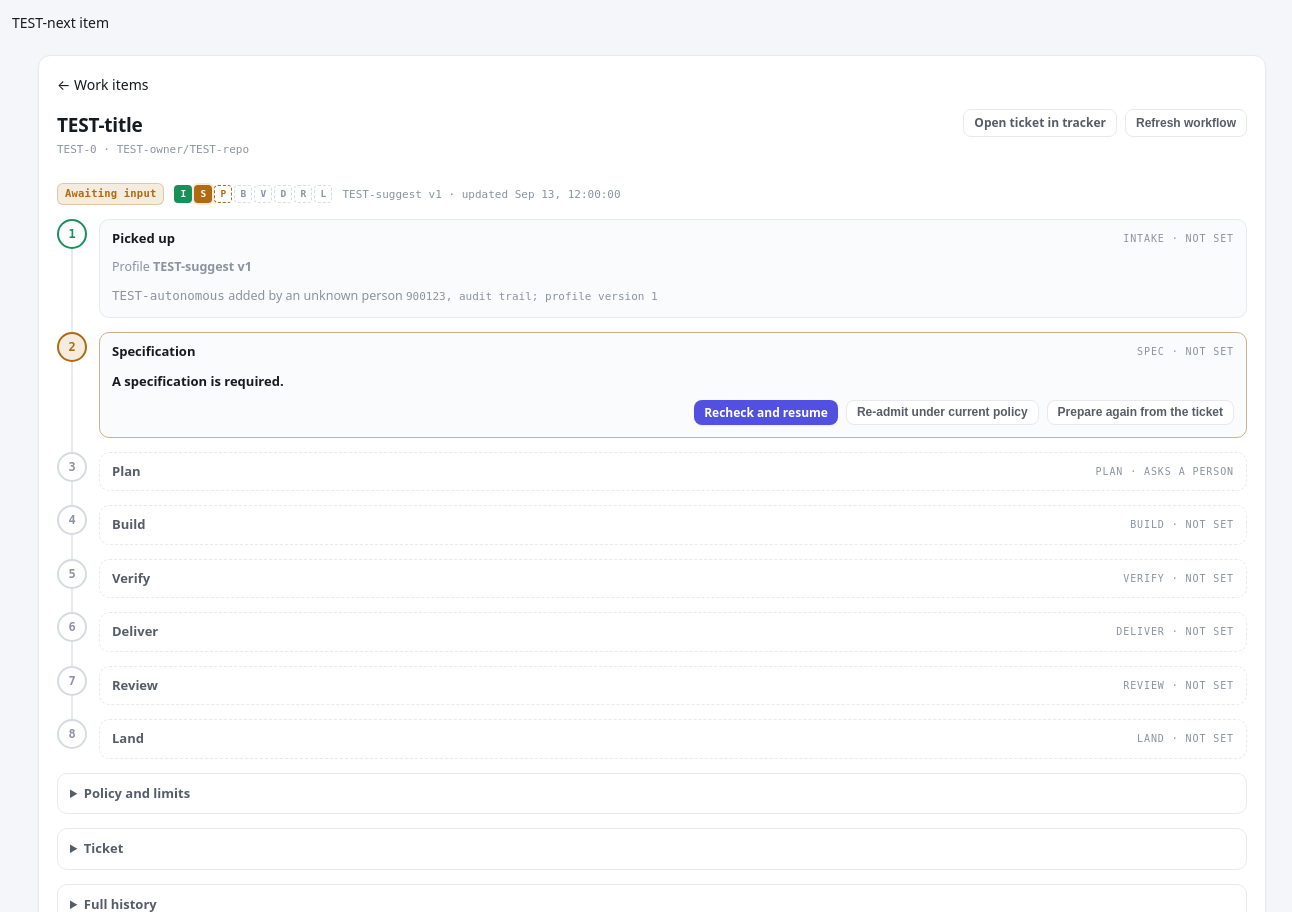
Scenario: clears the rule notice when the page is refreshed or a later action starts
This screenshot has width=1292, height=912.
Click the button "Recheck and resume" at (766,412), box x1=694 y1=400 x2=838 y2=425
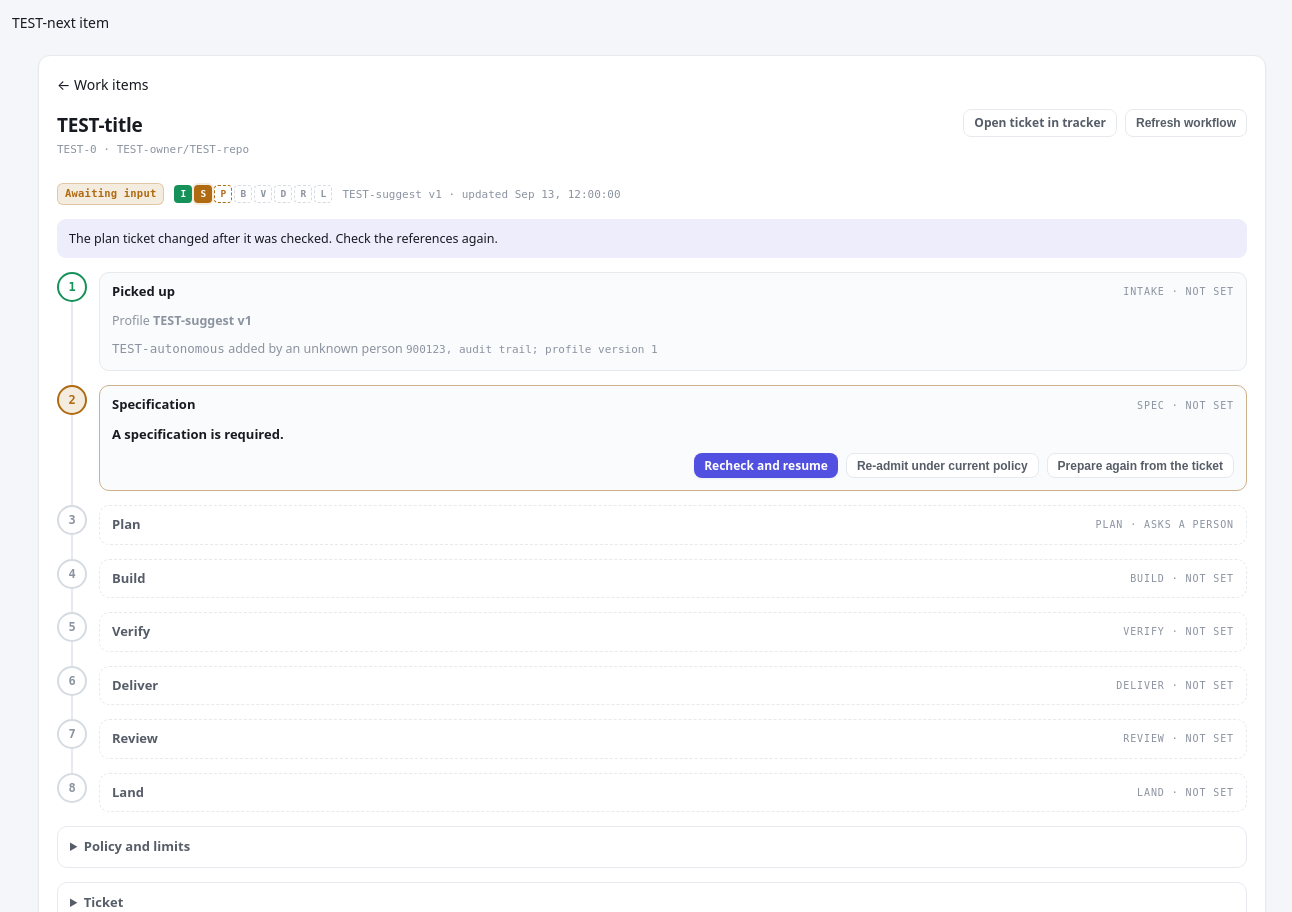
Now the text "The plan ticket changed after it was checked. Check the references again." is shown, box x1=57 y1=219 x2=1247 y2=258
Click the button "Recheck and resume" at (766,466), box x1=694 y1=453 x2=838 y2=478
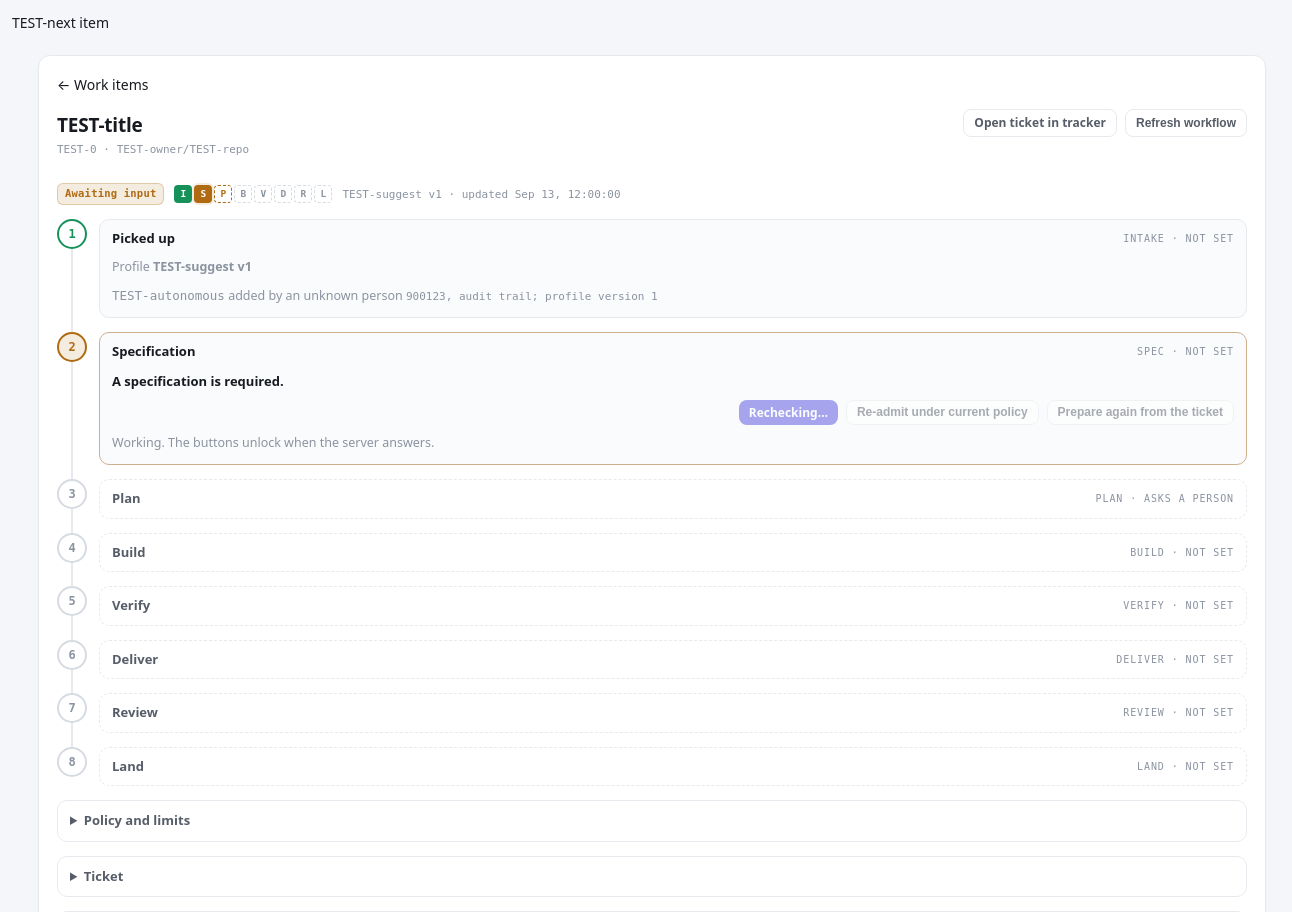
Now the text "The plan ticket changed after it was checked. Check the references again." is gone
